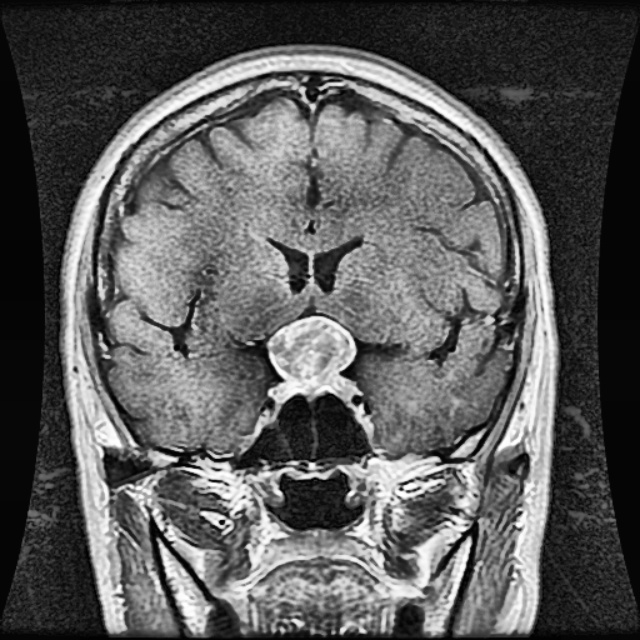Pituitary: (268, 313, 359, 403)
